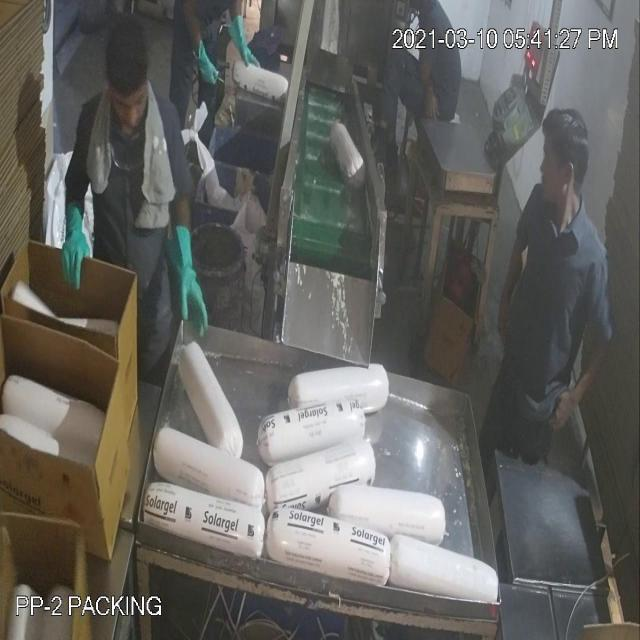Gloves: (26, 46, 584, 374)
